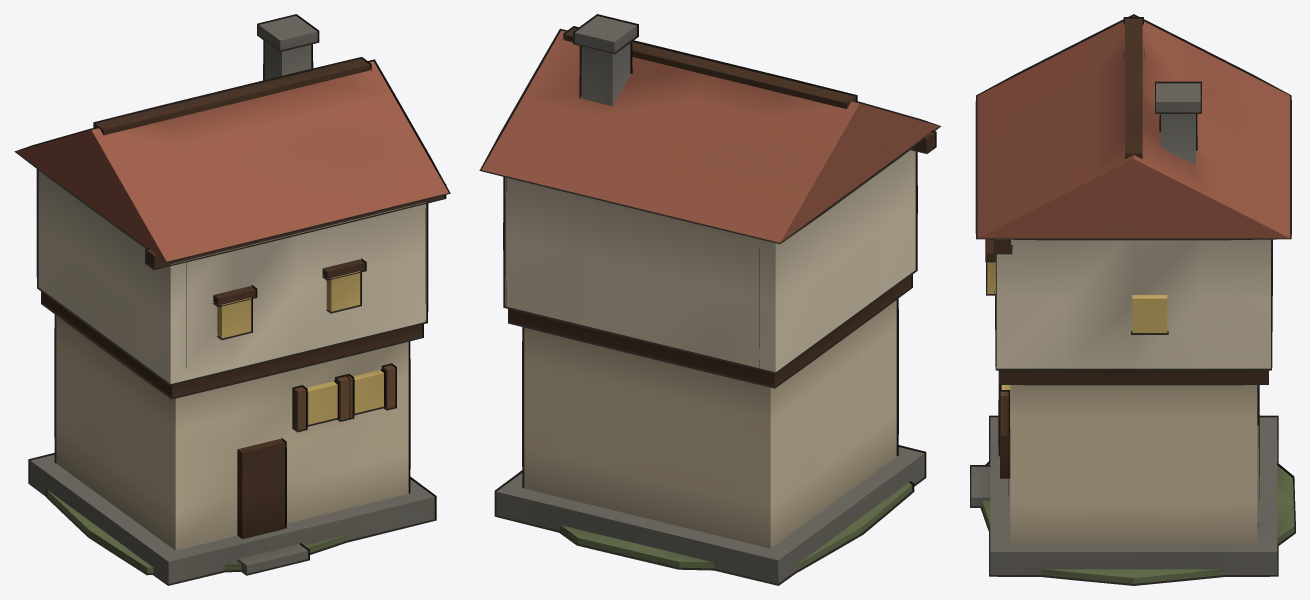
Rendered from maison_etage.glb.
The picture shows the model from 3 angles, left to right: view 1: azimuth 30°, elevation 25°; view 2: azimuth 150°, elevation 25°; view 3: azimuth 270°, elevation 25°; orthographic projection. The views are drawn at different scales.
Visible parts, largest first — view 1: maison_etage, maison_etage_outline; view 2: maison_etage, maison_etage_outline; view 3: maison_etage, maison_etage_outline.
Part boxes in pixels (<box>): maison_etage: <box>16,16,448,583</box>; maison_etage_outline: <box>14,14,450,585</box>; maison_etage: <box>481,16,938,583</box>; maison_etage_outline: <box>479,14,941,585</box>; maison_etage: <box>971,16,1294,583</box>; maison_etage_outline: <box>970,14,1295,585</box>.
Bounding box in the file's own units: 2.24 × 3.17 × 2.05.
